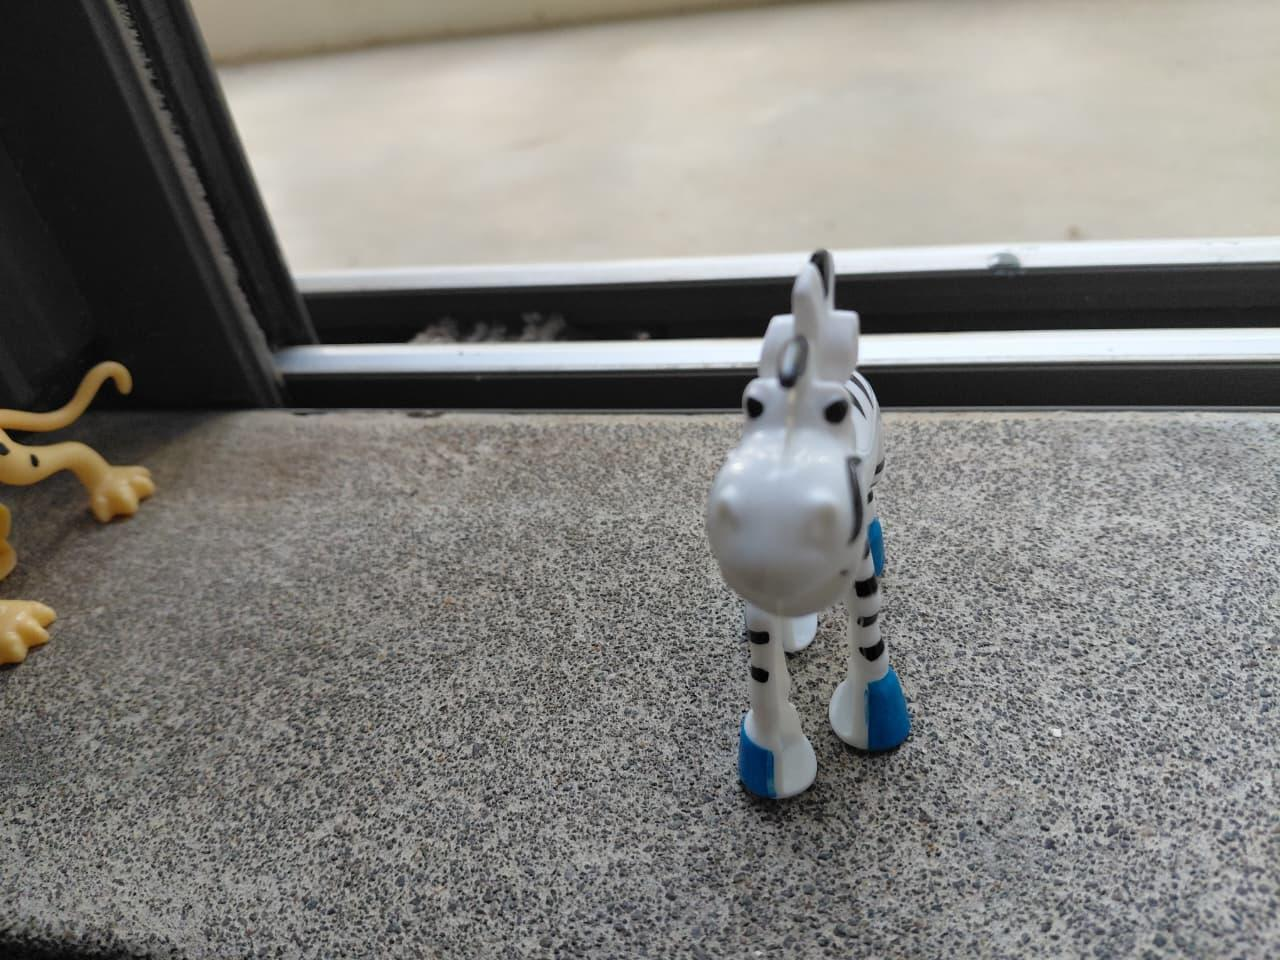zebra: (584, 211, 1093, 847)
